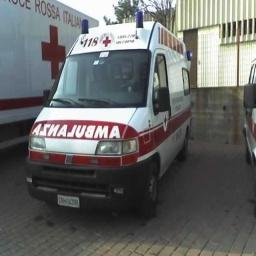Ambulance: (26, 12, 190, 216), (0, 0, 98, 147), (254, 179, 255, 199)
